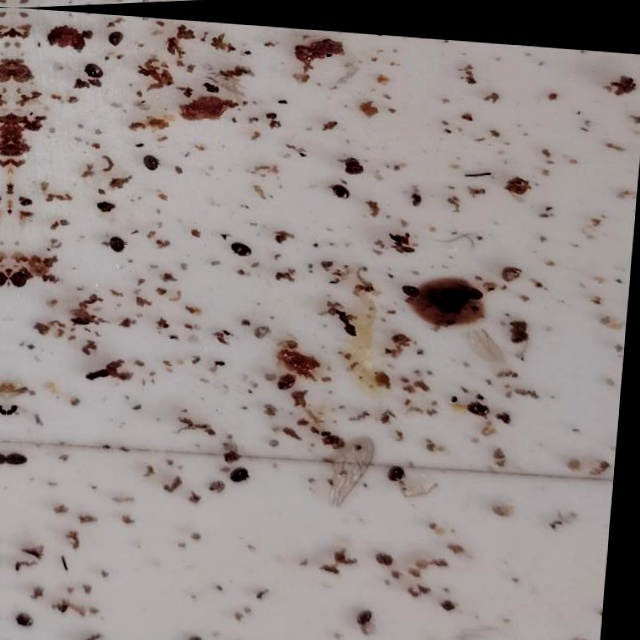varroa: (282, 367, 308, 389), (8, 450, 37, 469), (469, 396, 503, 412), (22, 609, 46, 630), (232, 463, 258, 482), (83, 62, 108, 81), (331, 179, 357, 197), (145, 153, 167, 174), (110, 234, 133, 254), (234, 238, 259, 256), (106, 29, 129, 48), (392, 459, 415, 478), (14, 270, 33, 292), (465, 279, 491, 295), (384, 546, 406, 564), (363, 603, 384, 621), (402, 281, 428, 294), (9, 276, 15, 294)
